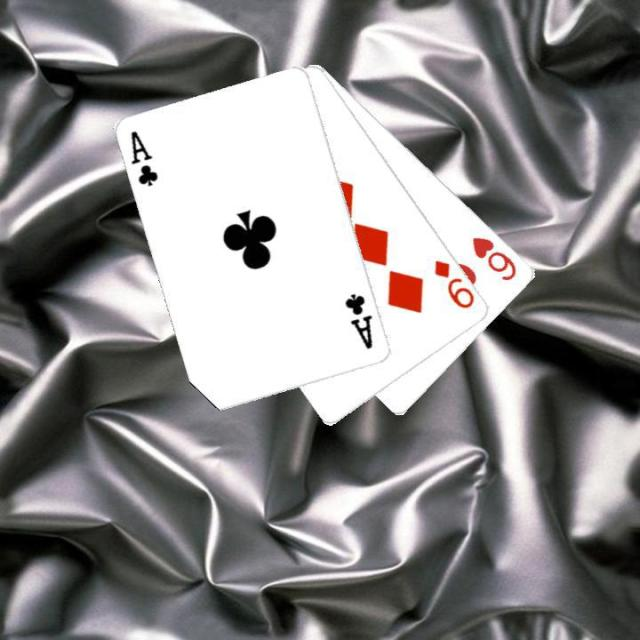6H: (469, 233, 519, 283)
9D: (430, 256, 478, 311)
AC: (127, 127, 161, 189), (341, 290, 375, 351)
